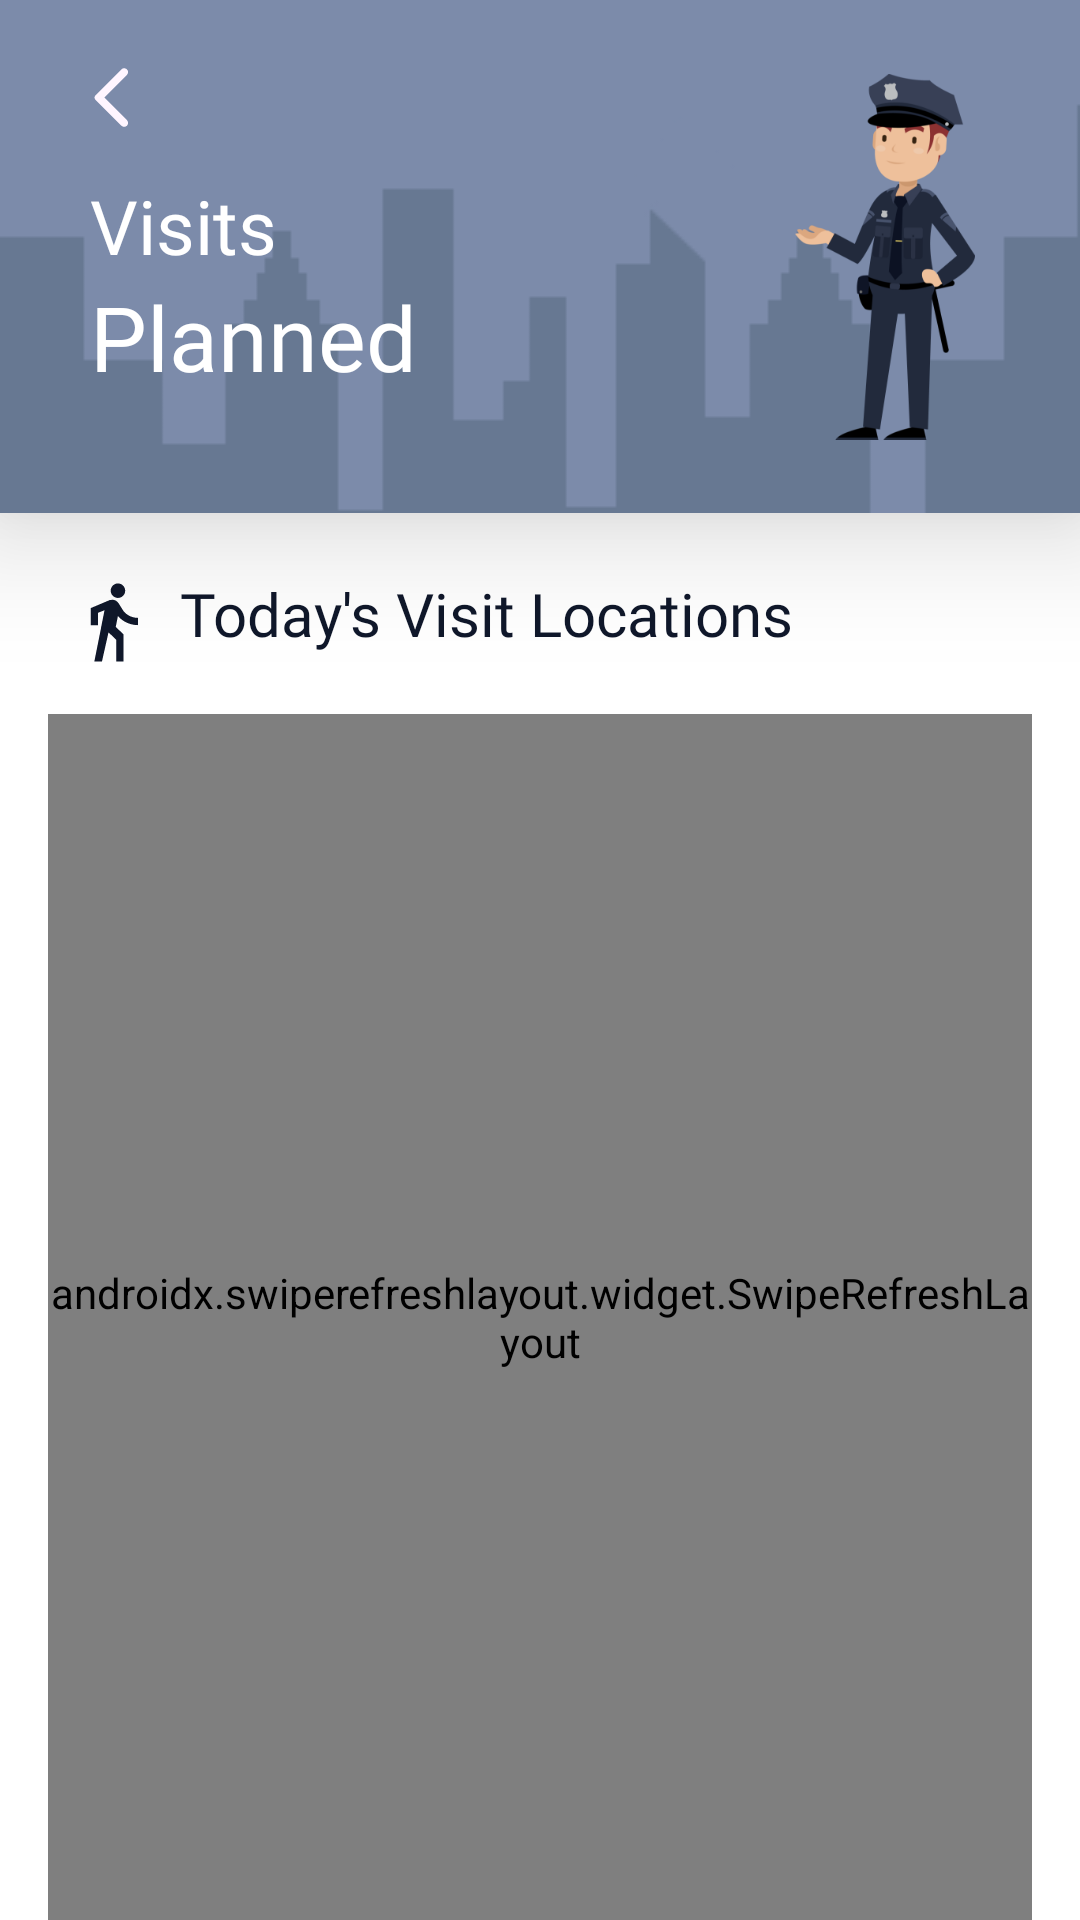

Locate icon controls on the screen. Image size 1080x1920, boxes as BBox(x1, y1, x2, y2).
arrow back: BBox(94, 68, 128, 127)
directions walk: BBox(90, 583, 138, 662)
